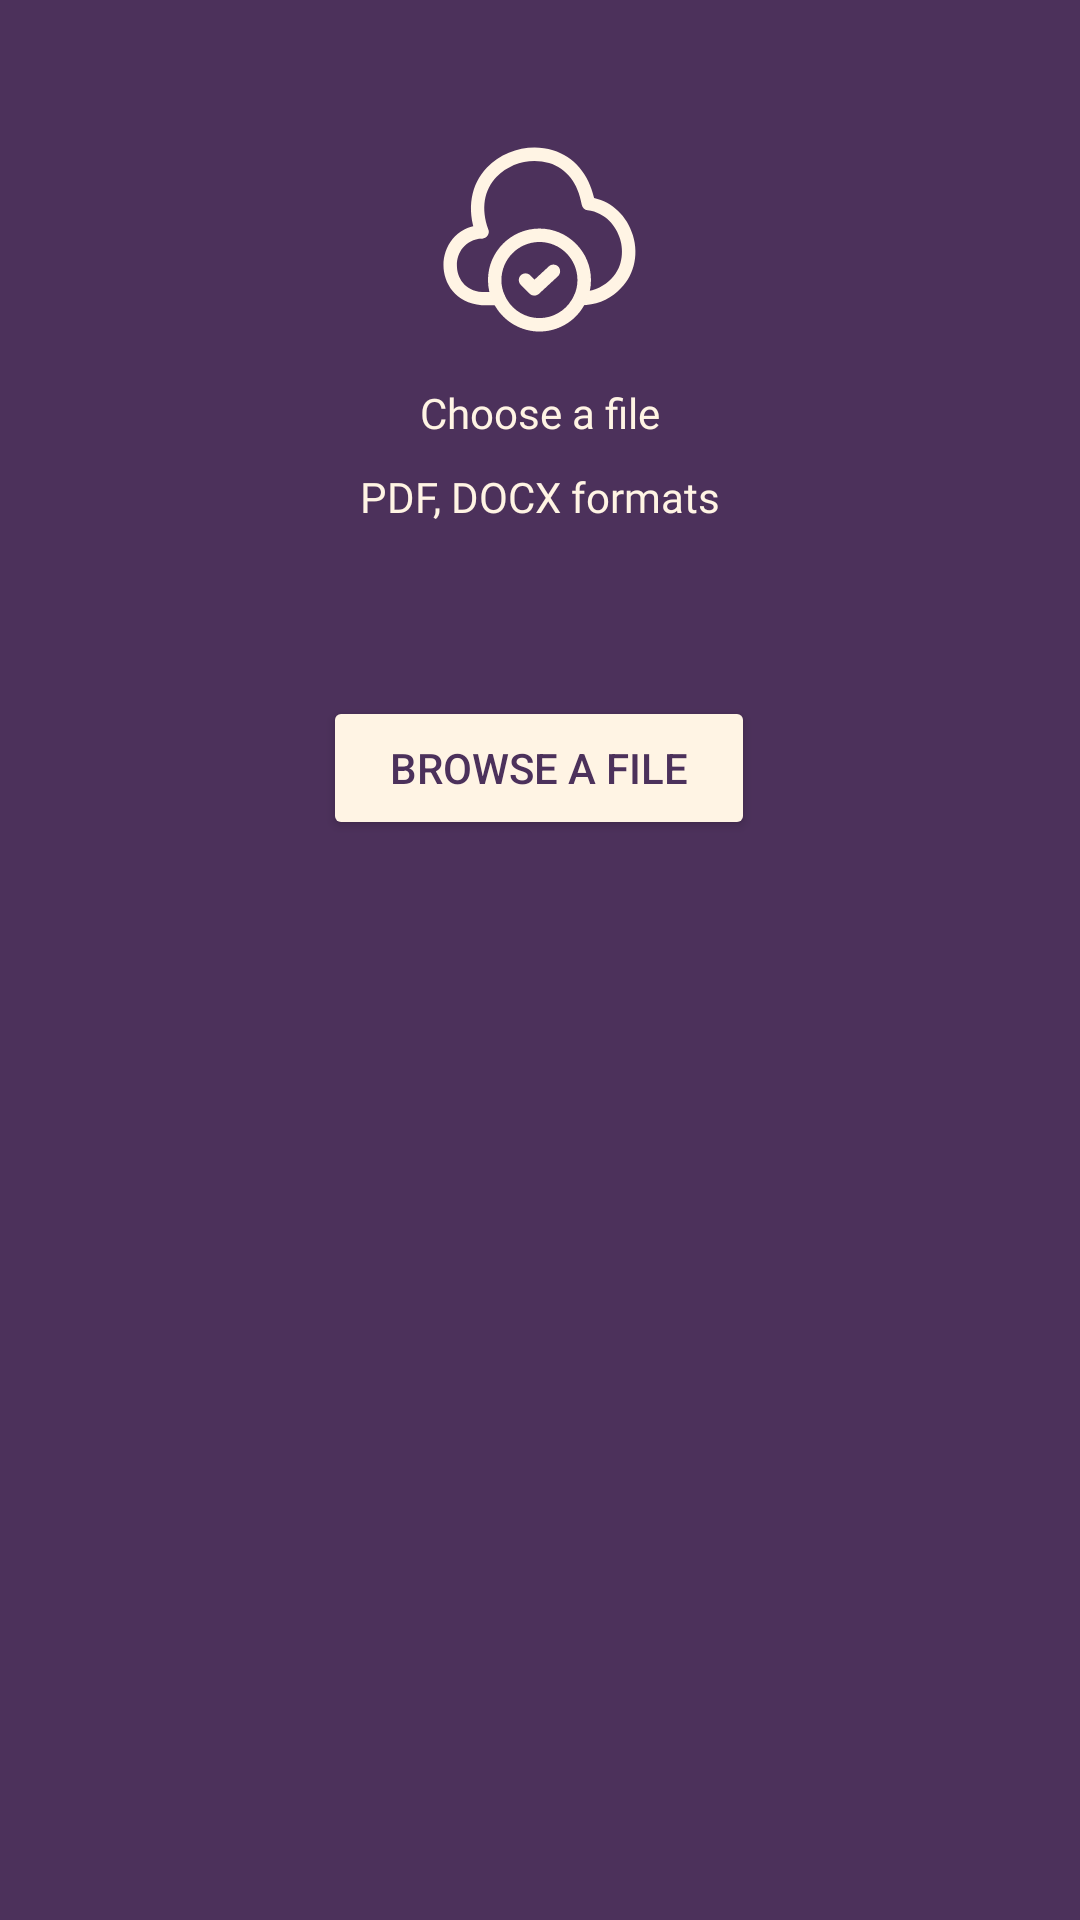

Icon bounding boxes for this 1080px x 1920px phone screenshot, format (x1, y1, x2, y2):
upload: (443, 147, 636, 332)
